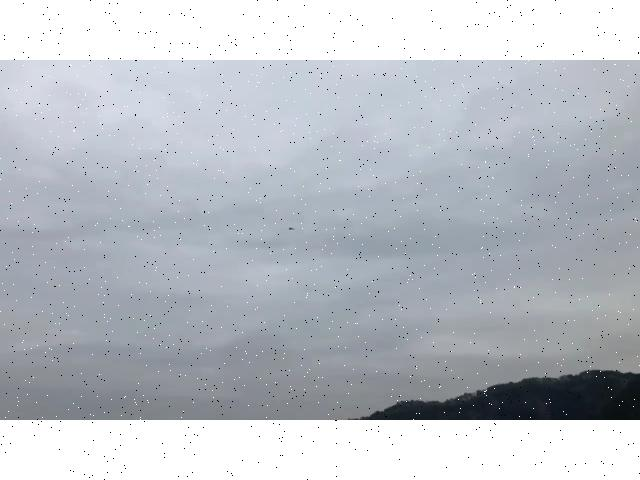Anti-Drone: (280, 220, 304, 236)
